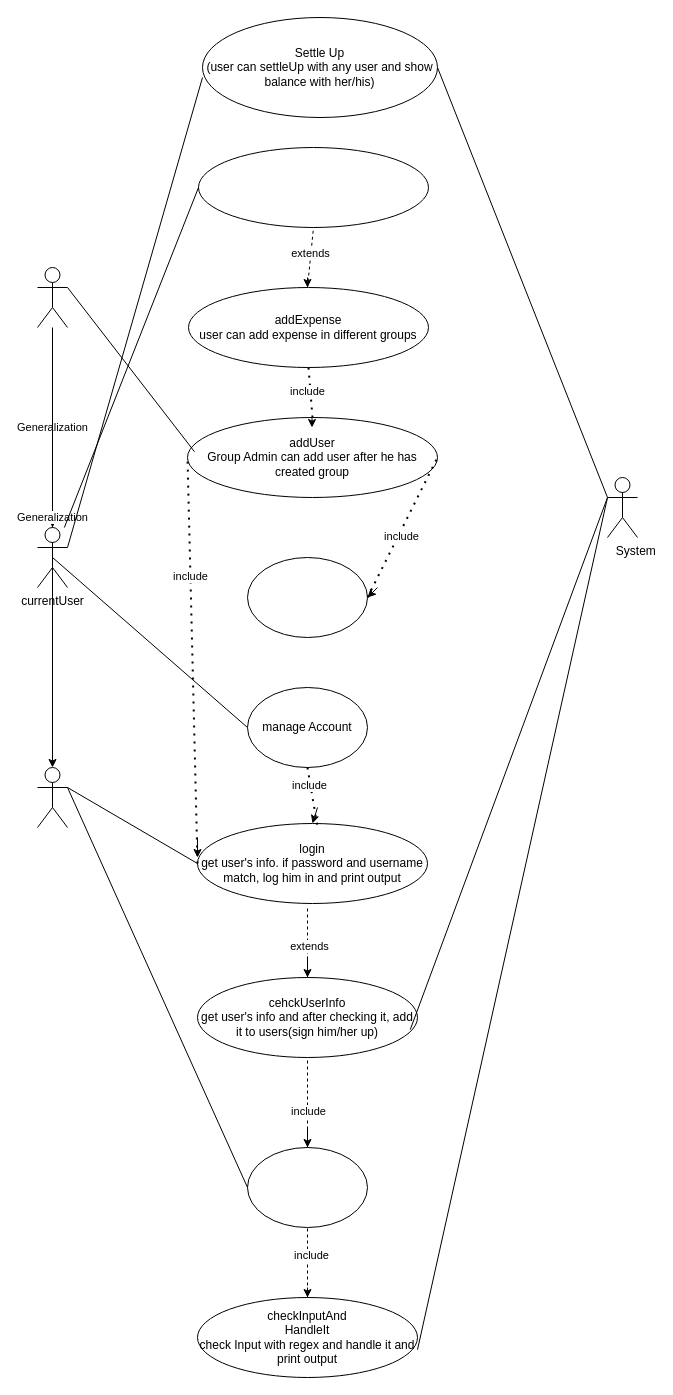
This 673x1395 diagram has some shape labels left out. The box of each missing label's shape, as (x1, y1, x2, y2) in pixels:
Create Group: (246, 556, 368, 638)
groupAdmin: (36, 266, 68, 328)
Show Balance user can show balance with any user in common groups: (198, 146, 428, 228)
signup: (246, 1146, 368, 1228)
User: (36, 766, 68, 828)
